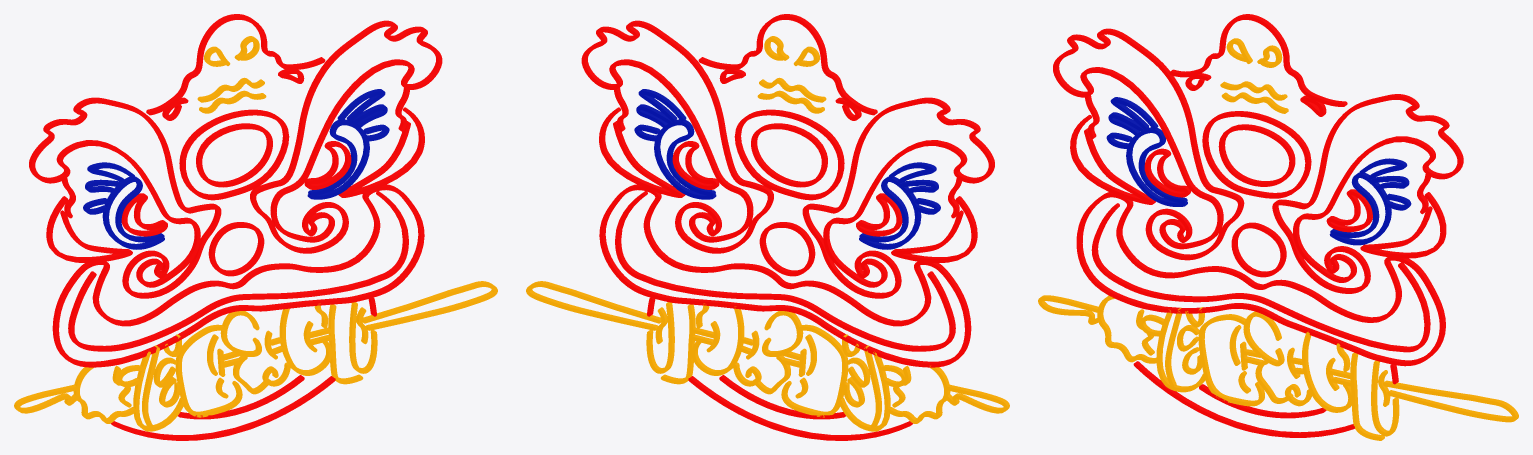
The picture shows the model from 3 angles, left to right: view 1: azimuth 30°, elevation 25°; view 2: azimuth 150°, elevation 25°; view 3: azimuth 330°, elevation 25°; orthographic projection.
Parts seen in each view (by area): view 1: q3; view 2: q3; view 3: q3.
Boxes of the visible parts, box(x1,y1,x2,y2) form: q3: box(14, 14, 497, 440); q3: box(526, 14, 1009, 440); q3: box(1038, 14, 1518, 440).
Size of the model in its own units: 1649 by 1369 by 15.92.
